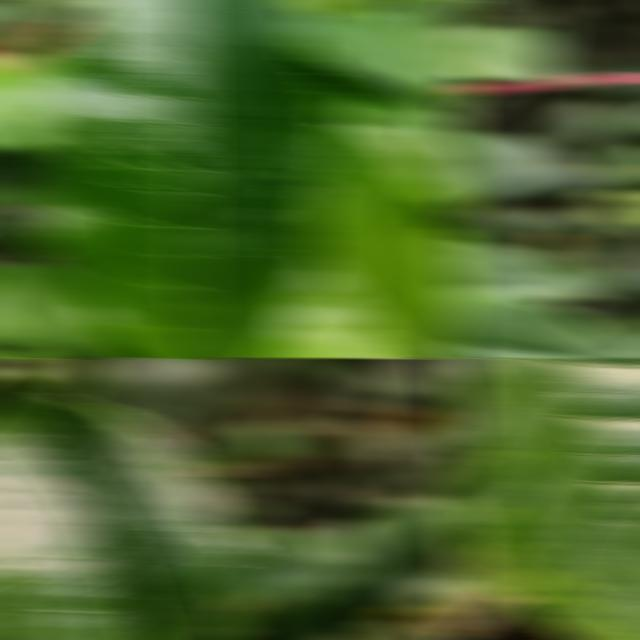Leaf: (23, 0, 347, 358), (0, 374, 255, 640), (449, 358, 640, 640), (259, 124, 458, 358), (230, 498, 467, 640), (294, 10, 471, 124), (343, 90, 471, 213), (449, 288, 640, 358), (367, 0, 471, 99), (0, 262, 104, 358), (449, 239, 603, 302), (221, 525, 355, 595), (449, 130, 577, 203), (449, 526, 525, 637), (449, 22, 569, 85), (0, 47, 66, 151), (557, 97, 627, 147)
